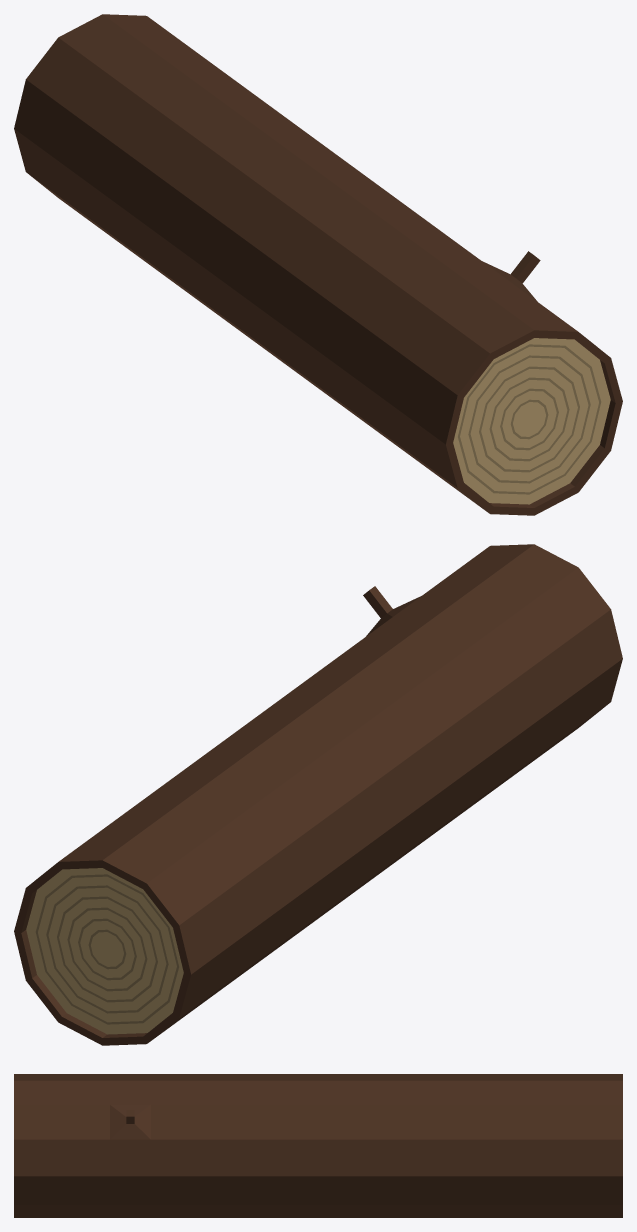
Rendered from Log.fbx.
3 renders of one model, top to bottom at view 1: azimuth 30°, elevation 25°; view 2: azimuth 150°, elevation 25°; view 3: azimuth 270°, elevation 25°, orthographic. The views are drawn at different scales.
Parts seen in each view (by area): view 1: Cylinder; view 2: Cylinder; view 3: Cylinder.
Boxes of the visible parts, x1,y1,x2,y2 form: Cylinder: (14,14,622,515); Cylinder: (14,544,622,1045); Cylinder: (14,1074,622,1217).
Bounding box in the file's own units: 200 × 200 × 844.
